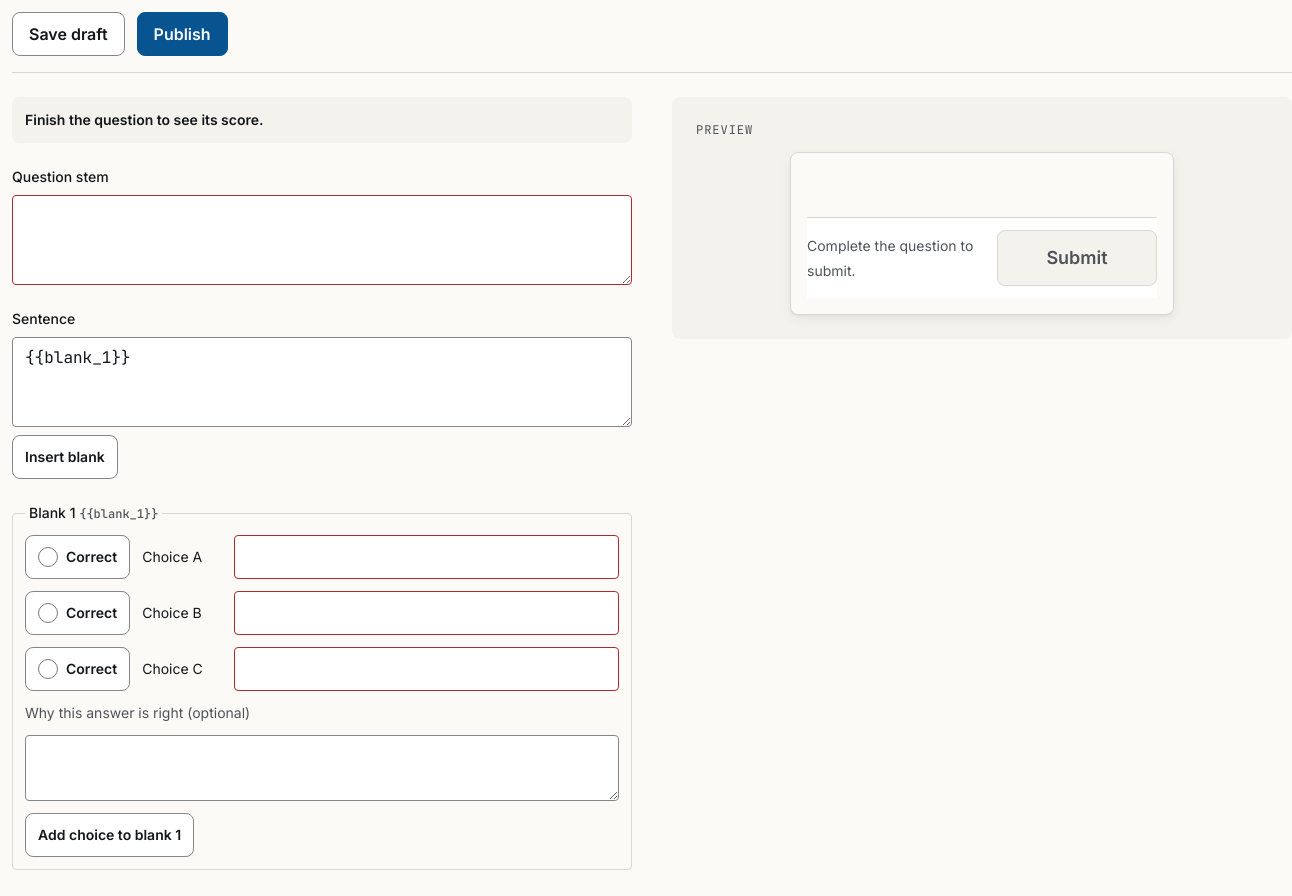
ClozeEditor › inserts a new blank where the cursor is, with its own choices
Replace the text in the text box labelled "Sentence" with "Give  now." at {"x": 322, "y": 382}, box [12,337,632,427]
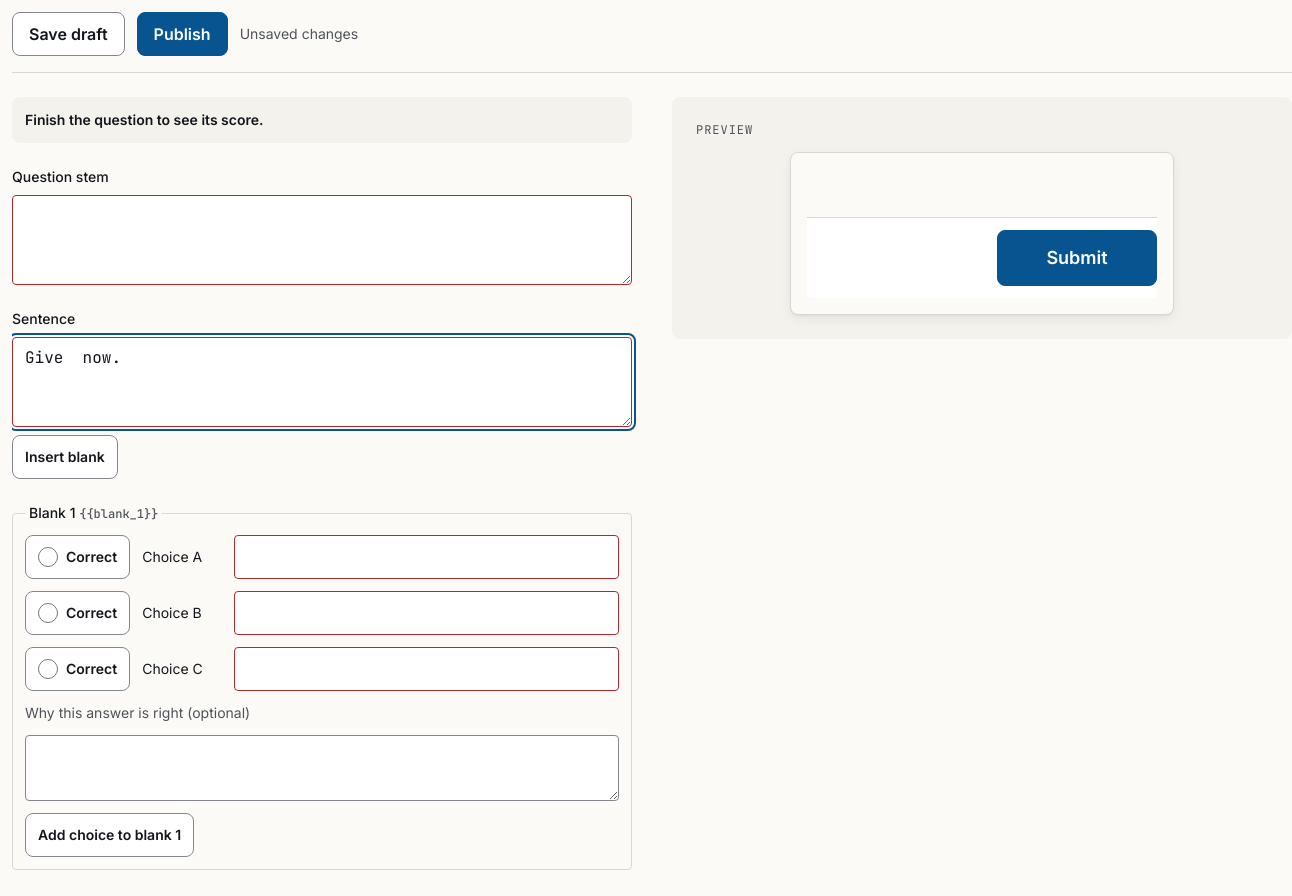
Click the button "Insert blank" at {"x": 65, "y": 457}, box [12,435,118,479]
(page scrolled)
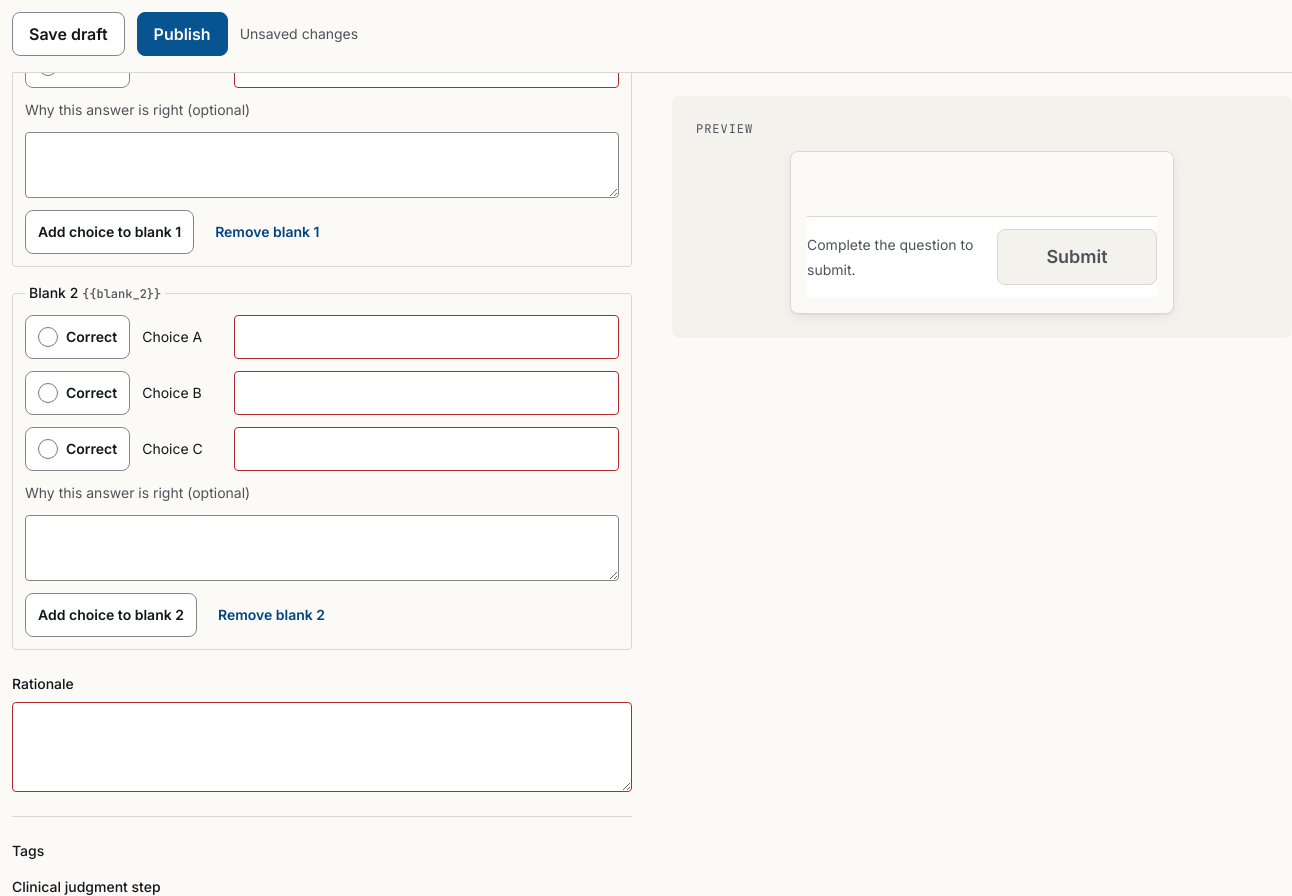
expect the element "Blank 2" is shown: met, box [12,283,632,650]
